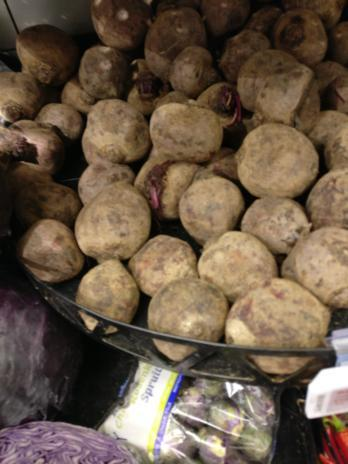beetroot: (89, 0, 348, 316), (0, 27, 91, 284)
